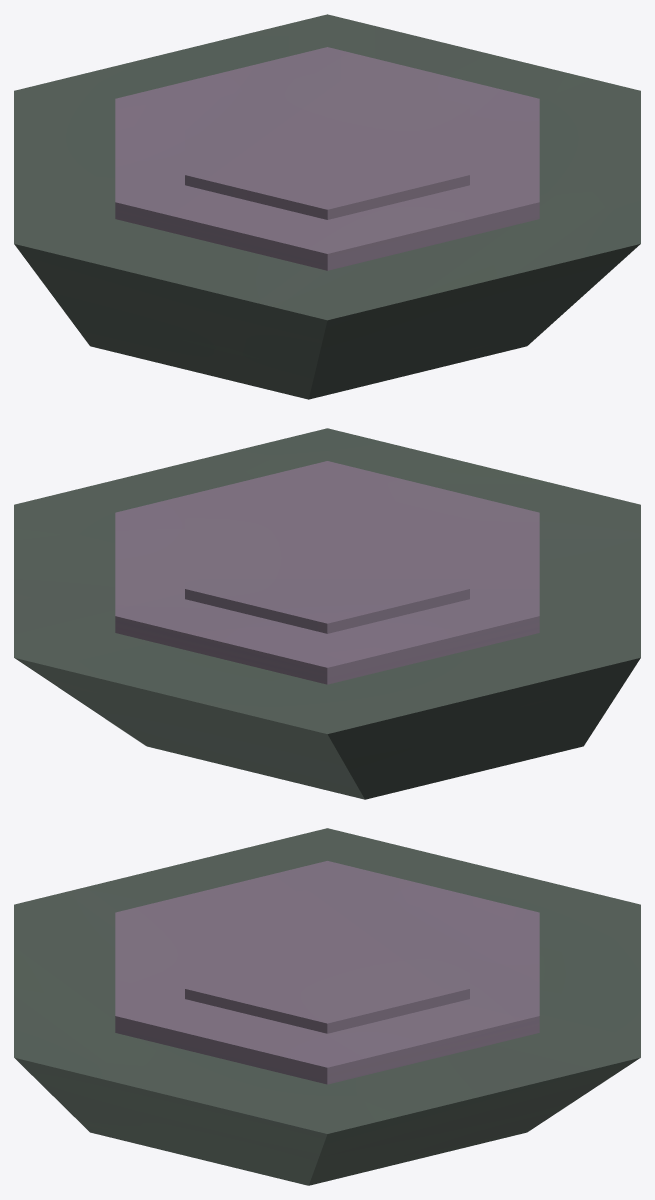
The model's file is lvl1_isle_body3.glb.
3 views of the same model, one above another, from view 1: azimuth 30°, elevation 25°; view 2: azimuth 150°, elevation 25°; view 3: azimuth 270°, elevation 25° (orthographic).
Visible parts, largest first — view 1: lvl1_isl_body3; view 2: lvl1_isl_body3; view 3: lvl1_isl_body3.
Boxes of the visible parts, x1,y1,x2,y2 form: lvl1_isl_body3: (14,14,640,399); lvl1_isl_body3: (14,428,640,799); lvl1_isl_body3: (14,828,640,1185).
Bounding box in the file's own units: 6.41 × 1.36 × 5.55.
Materials: 1 (1 with a texture image).
